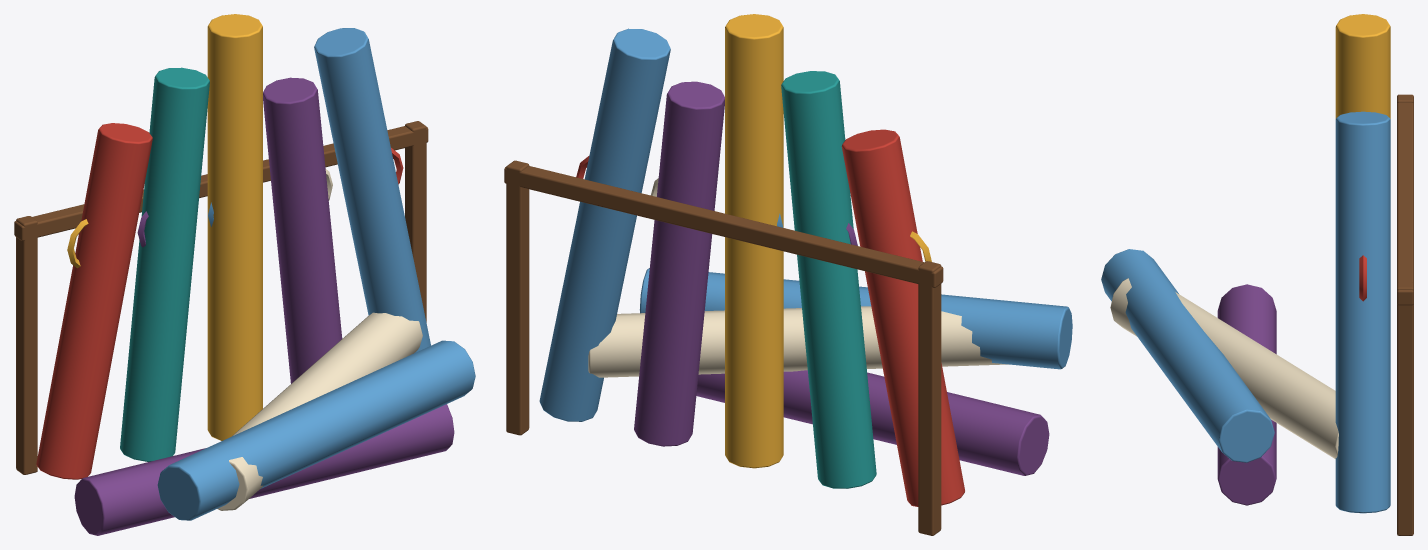
File: mk_rug_rolls.glb
3 views of the same model, side by side, from view 1: azimuth 30°, elevation 25°; view 2: azimuth 150°, elevation 25°; view 3: azimuth 270°, elevation 25° (orthographic). The views are drawn at different scales.
Parts seen in each view (by area): view 1: mk_rug_rolls_body; view 2: mk_rug_rolls_body; view 3: mk_rug_rolls_body.
Part boxes in pixels (box(x1,y1,x2,y2)): mk_rug_rolls_body: box(14, 14, 475, 535); mk_rug_rolls_body: box(504, 14, 1072, 535); mk_rug_rolls_body: box(1101, 14, 1413, 535).
Size of the model in its own units: 2.25 by 2.15 by 1.48.
